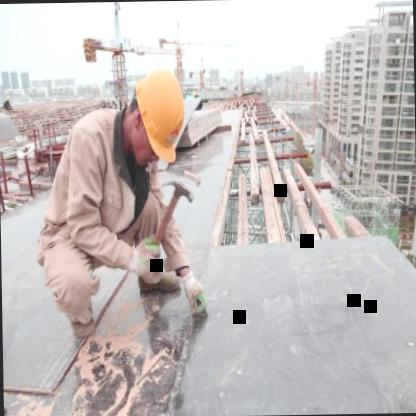helmet: (120, 59, 193, 172)
